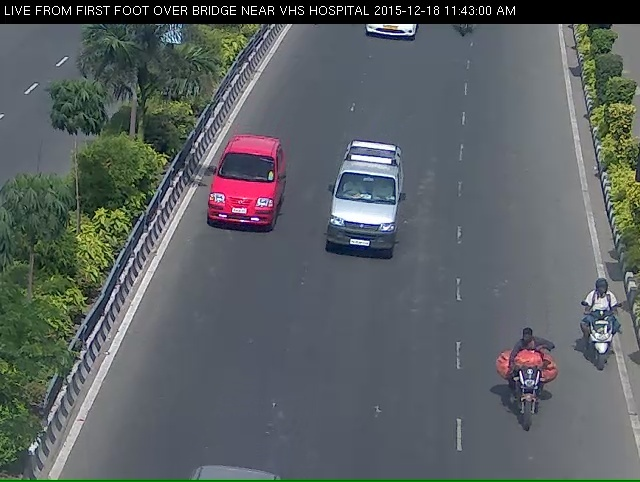Car: (315, 123, 415, 293), (185, 137, 289, 265)
Person: (492, 352, 557, 463), (582, 292, 622, 405)
